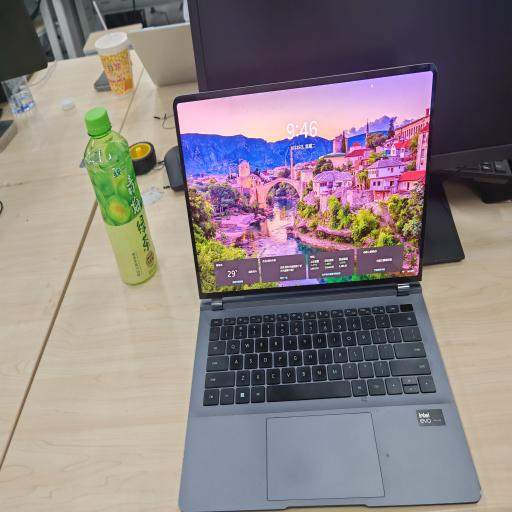laptop: (174, 64, 480, 512), (127, 22, 197, 86)
